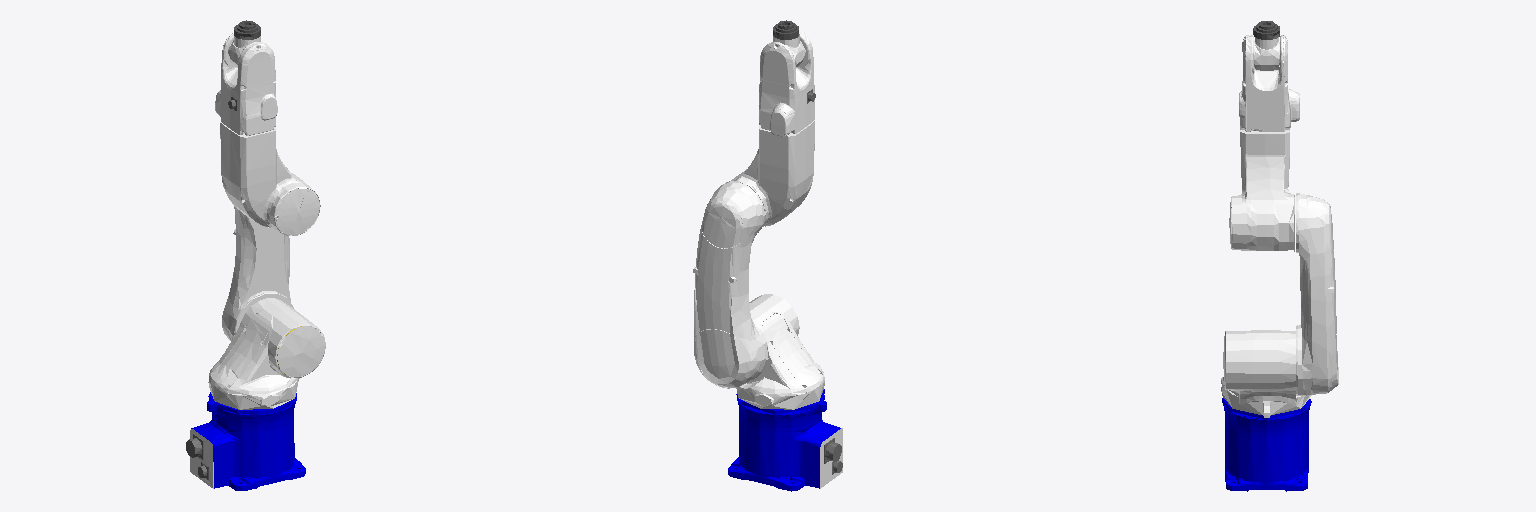
robot.urdf — vs6577:
<?xml version="1.0" encoding="utf-8"?>
<!-- =================================================================================== -->
<!-- |    This document was autogenerated by xacro from vs6577.urdf.xacro              | -->
<!-- |    EDITING THIS FILE BY HAND IS NOT RECOMMENDED                                 | -->
<!-- =================================================================================== -->
<robot name="vs6577">
  <transmission name="trans_1">
    <type>transmission_interface/SimpleTransmission</type>
    <joint name="joint_1">
      <hardwareInterface>hardware_interface/PositionJointInterface</hardwareInterface>
    </joint>
    <actuator name="motor_1">
      <hardwareInterface>hardware_interface/PositionJointInterface</hardwareInterface>
      <mechanicalReduction>1</mechanicalReduction>
    </actuator>
  </transmission>
  <transmission name="trans_2">
    <type>transmission_interface/SimpleTransmission</type>
    <joint name="joint_2">
      <hardwareInterface>hardware_interface/PositionJointInterface</hardwareInterface>
    </joint>
    <actuator name="motor_2">
      <hardwareInterface>hardware_interface/PositionJointInterface</hardwareInterface>
      <mechanicalReduction>1</mechanicalReduction>
    </actuator>
  </transmission>
  <transmission name="trans_3">
    <type>transmission_interface/SimpleTransmission</type>
    <joint name="joint_3">
      <hardwareInterface>hardware_interface/PositionJointInterface</hardwareInterface>
    </joint>
    <actuator name="motor_3">
      <hardwareInterface>hardware_interface/PositionJointInterface</hardwareInterface>
      <mechanicalReduction>1</mechanicalReduction>
    </actuator>
  </transmission>
  <transmission name="trans_4">
    <type>transmission_interface/SimpleTransmission</type>
    <joint name="joint_4">
      <hardwareInterface>hardware_interface/PositionJointInterface</hardwareInterface>
    </joint>
    <actuator name="motor_4">
      <hardwareInterface>hardware_interface/PositionJointInterface</hardwareInterface>
      <mechanicalReduction>1</mechanicalReduction>
    </actuator>
  </transmission>
  <transmission name="trans_5">
    <type>transmission_interface/SimpleTransmission</type>
    <joint name="joint_5">
      <hardwareInterface>hardware_interface/PositionJointInterface</hardwareInterface>
    </joint>
    <actuator name="motor_5">
      <hardwareInterface>hardware_interface/PositionJointInterface</hardwareInterface>
      <mechanicalReduction>1</mechanicalReduction>
    </actuator>
  </transmission>
  <transmission name="trans_6">
    <type>transmission_interface/SimpleTransmission</type>
    <joint name="joint_6">
      <hardwareInterface>hardware_interface/PositionJointInterface</hardwareInterface>
    </joint>
    <actuator name="motor_6">
      <hardwareInterface>hardware_interface/PositionJointInterface</hardwareInterface>
      <mechanicalReduction>1</mechanicalReduction>
    </actuator>
  </transmission>
  <gazebo>
    <plugin filename="libgazebo_ros_control.so" name="gazebo_ros_control">
      <robotNamespace>/vs6577</robotNamespace>
      <legacyModeNS>true</legacyModeNS>
    </plugin>
  </gazebo>
  <link name="world"/>
  <joint name="joint_w" type="fixed">
    <parent link="world"/>
    <child link="base_link"/>
    <origin xyz="0 0 0"/>
  </joint>
  <link name="base_link">
    <visual>
      <origin rpy="0 0 0" xyz="0 0 0"/>
      <geometry>
        <mesh filename="package://denso_robot_descriptions/vs6577_description/meshes/base_link.dae" scale="1 1 1"/>
      </geometry>
    </visual>
    <collision>
      <origin rpy="0 0 0" xyz="0 0 0"/>
      <geometry>
        <mesh filename="package://denso_robot_descriptions/vs6577_description/meshes/base_link.dae" scale="1 1 1"/>
      </geometry>
    </collision>
    <inertial>
      <mass value="1"/>
      <origin rpy="0.000000 0.000000 0.000000" xyz="0.000000 0.000000 0.000000"/>
      <inertia ixx="1" ixy="0" ixz="0" iyy="1" iyz="0" izz="1"/>
    </inertial>
  </link>
  <link name="J1">
    <visual>
      <origin rpy="0 0 0" xyz="0 0 0"/>
      <geometry>
        <mesh filename="package://denso_robot_descriptions/vs6577_description/meshes/J1.dae" scale="1 1 1"/>
      </geometry>
    </visual>
    <collision>
      <origin rpy="0 0 0" xyz="0 0 0"/>
      <geometry>
        <mesh filename="package://denso_robot_descriptions/vs6577_description/meshes/J1.dae" scale="1 1 1"/>
      </geometry>
    </collision>
    <inertial>
      <mass value="1"/>
      <origin rpy="0.000000 0.000000 0.000000" xyz="0.000000 0.000000 0.000000"/>
      <inertia ixx="1" ixy="0" ixz="0" iyy="1" iyz="0" izz="1"/>
    </inertial>
  </link>
  <link name="J2">
    <visual>
      <origin rpy="0 0 0" xyz="0 0 0"/>
      <geometry>
        <mesh filename="package://denso_robot_descriptions/vs6577_description/meshes/J2.dae" scale="1 1 1"/>
      </geometry>
    </visual>
    <collision>
      <origin rpy="0 0 0" xyz="0 0 0"/>
      <geometry>
        <mesh filename="package://denso_robot_descriptions/vs6577_description/meshes/J2.dae" scale="1 1 1"/>
      </geometry>
    </collision>
    <inertial>
      <mass value="1"/>
      <origin rpy="0.000000 0.000000 0.000000" xyz="0.000000 0.000000 0.000000"/>
      <inertia ixx="1" ixy="0" ixz="0" iyy="1" iyz="0" izz="1"/>
    </inertial>
  </link>
  <link name="J3">
    <visual>
      <origin rpy="0 0 0" xyz="0 0 0"/>
      <geometry>
        <mesh filename="package://denso_robot_descriptions/vs6577_description/meshes/J3.dae" scale="1 1 1"/>
      </geometry>
    </visual>
    <collision>
      <origin rpy="0 0 0" xyz="0 0 0"/>
      <geometry>
        <mesh filename="package://denso_robot_descriptions/vs6577_description/meshes/J3.dae" scale="1 1 1"/>
      </geometry>
    </collision>
    <inertial>
      <mass value="1"/>
      <origin rpy="0.000000 0.000000 0.000000" xyz="0.000000 0.000000 0.000000"/>
      <inertia ixx="1" ixy="0" ixz="0" iyy="1" iyz="0" izz="1"/>
    </inertial>
  </link>
  <link name="J4">
    <visual>
      <origin rpy="0 0 0" xyz="0 0 0"/>
      <geometry>
        <mesh filename="package://denso_robot_descriptions/vs6577_description/meshes/J4.dae" scale="1 1 1"/>
      </geometry>
    </visual>
    <collision>
      <origin rpy="0 0 0" xyz="0 0 0"/>
      <geometry>
        <mesh filename="package://denso_robot_descriptions/vs6577_description/meshes/J4.dae" scale="1 1 1"/>
      </geometry>
    </collision>
    <inertial>
      <mass value="1"/>
      <origin rpy="0.000000 0.000000 0.000000" xyz="0.000000 0.000000 0.000000"/>
      <inertia ixx="1" ixy="0" ixz="0" iyy="1" iyz="0" izz="1"/>
    </inertial>
  </link>
  <link name="J5">
    <visual>
      <origin rpy="0 0 0" xyz="0 0 0"/>
      <geometry>
        <mesh filename="package://denso_robot_descriptions/vs6577_description/meshes/J5.dae" scale="1 1 1"/>
      </geometry>
    </visual>
    <collision>
      <origin rpy="0 0 0" xyz="0 0 0"/>
      <geometry>
        <mesh filename="package://denso_robot_descriptions/vs6577_description/meshes/J5.dae" scale="1 1 1"/>
      </geometry>
    </collision>
    <inertial>
      <mass value="1"/>
      <origin rpy="0.000000 0.000000 0.000000" xyz="0.000000 0.000000 0.000000"/>
      <inertia ixx="1" ixy="0" ixz="0" iyy="1" iyz="0" izz="1"/>
    </inertial>
  </link>
  <link name="J6">
    <visual>
      <origin rpy="0 0 0" xyz="0 0 0"/>
      <geometry>
        <mesh filename="package://denso_robot_descriptions/vs6577_description/meshes/J6.dae" scale="1 1 1"/>
      </geometry>
    </visual>
    <collision>
      <origin rpy="0 0 0" xyz="0 0 0"/>
      <geometry>
        <mesh filename="package://denso_robot_descriptions/vs6577_description/meshes/J6.dae" scale="1 1 1"/>
      </geometry>
    </collision>
    <inertial>
      <mass value="1"/>
      <origin rpy="0.000000 0.000000 0.000000" xyz="0.000000 0.000000 0.000000"/>
      <inertia ixx="1" ixy="0" ixz="0" iyy="1" iyz="0" izz="1"/>
    </inertial>
  </link>
  <gazebo reference="base_link">
    <material>Gazebo/CoM</material>
  </gazebo>
  <gazebo reference="J1">
    <material>Gazebo/Gray</material>
  </gazebo>
  <gazebo reference="J2">
    <material>Gazebo/Gray</material>
  </gazebo>
  <gazebo reference="J3">
    <material>Gazebo/Gray</material>
  </gazebo>
  <gazebo reference="J4">
    <material>Gazebo/Gray</material>
  </gazebo>
  <gazebo reference="J5">
    <material>Gazebo/Gray</material>
  </gazebo>
  <gazebo reference="J6">
    <material>Gazebo/Gray</material>
  </gazebo>
  <gazebo reference="EEF_tool_mount">
    <material>Gazebo/CoM</material>
  </gazebo>
  <gazebo>
    <gravity>False</gravity>
  </gazebo>
  <joint name="joint_1" type="revolute">
    <parent link="base_link"/>
    <child link="J1"/>
    <origin rpy="0.000000 0.000000 0.000000" xyz="0.000000 0.000000 0.000000"/>
    <axis xyz="-0.000000 -0.000000 1.000000"/>
    <limit effort="100" lower="-2.96706" upper="2.96706" velocity="1"/>
    <dynamics damping="0" friction="0"/>
  </joint>
  <joint name="joint_2" type="revolute">
    <parent link="J1"/>
    <child link="J2"/>
    <origin rpy="0.000000 0.000000 0.000000" xyz="0.075000 0.000000 0.335000"/>
    <axis xyz="-0.000000 1.000000 -0.000000"/>
    <limit effort="100" lower="-1.745329" upper="2.356194" velocity="1"/>
    <dynamics damping="0" friction="0"/>
  </joint>
  <joint name="joint_3" type="revolute">
    <parent link="J2"/>
    <child link="J3"/>
    <origin rpy="0.000000 0.000000 0.000000" xyz="0.000000 0.000000 0.365000"/>
    <axis xyz="-0.000000 1.000000 -0.000000"/>
    <limit effort="100" lower="-2.076942" upper="2.949606" velocity="1"/>
    <dynamics damping="0" friction="0"/>
  </joint>
  <joint name="joint_4" type="revolute">
    <parent link="J3"/>
    <child link="J4"/>
    <origin rpy="0.000000 0.000000 0.000000" xyz="-0.090000 0.000000 -0.700000"/>
    <axis xyz="-0.000000 -0.000000 1.000000"/>
    <limit effort="100" lower="-3.316126" upper="3.316126" velocity="1"/>
    <dynamics damping="0" friction="0"/>
  </joint>
  <joint name="joint_5" type="revolute">
    <parent link="J4"/>
    <child link="J5"/>
    <origin rpy="0.000000 0.000000 0.000000" xyz="0.000000 0.000000 1.105000"/>
    <axis xyz="-0.000000 1.000000 -0.000000"/>
    <limit effort="100" lower="-2.094395" upper="2.094395" velocity="1"/>
    <dynamics damping="0" friction="0"/>
  </joint>
  <joint name="joint_6" type="revolute">
    <parent link="J5"/>
    <child link="J6"/>
    <origin rpy="0.000000 0.000000 0.000000" xyz="0.000000 0.000000 0.080000"/>
    <axis xyz="-0.000000 -0.000000 1.000000"/>
    <limit effort="100" lower="-6.283185" upper="6.283185" velocity="1"/>
    <dynamics damping="0" friction="0"/>
  </joint>
</robot>

--- What the picture shows (computed from the rendered views, not written in the file) ---
The picture shows the robot from 3 angles, left to right: view 1: azimuth 30°, elevation 25°; view 2: azimuth 150°, elevation 25°; view 3: azimuth 270°, elevation 25°; orthographic projection.
Model vs6577 with 8 links and 7 joints (6 revolute, 1 fixed), rooted at world, posed every joint at zero.
Visible links, largest first — view 1: J1, base_link, J3, J4, J2, J5; view 2: J2, base_link, J1, J3, J4, J5; view 3: J2, J3, base_link, J1, J4, J5.
Link boxes in pixels (x1,y1,x2,y2): J1: (208,293,325,409); base_link: (186,392,305,490); J3: (220,122,320,235); J4: (215,33,277,135); J2: (222,206,290,340); J5: (228,23,260,67); J2: (693,182,768,388); base_link: (728,389,842,491); J1: (736,294,824,409); J3: (726,120,814,232); J4: (759,30,815,136); J5: (773,23,805,66); J2: (1296,193,1338,395); J3: (1229,130,1294,251); base_link: (1222,398,1311,491); J1: (1221,325,1311,417); J4: (1239,35,1299,131); J5: (1253,23,1279,70).
Bounding box of the posed robot: 0.3298 × 0.2828 × 1.19 m (x, y, z).
Meshes: 7 distinct files referenced, 7 mesh visuals loaded (7 Collada DAE).
